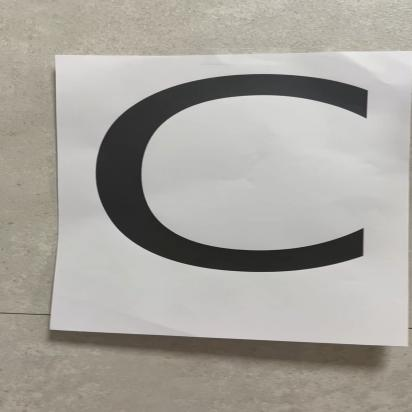seat: (46, 32, 412, 334)
